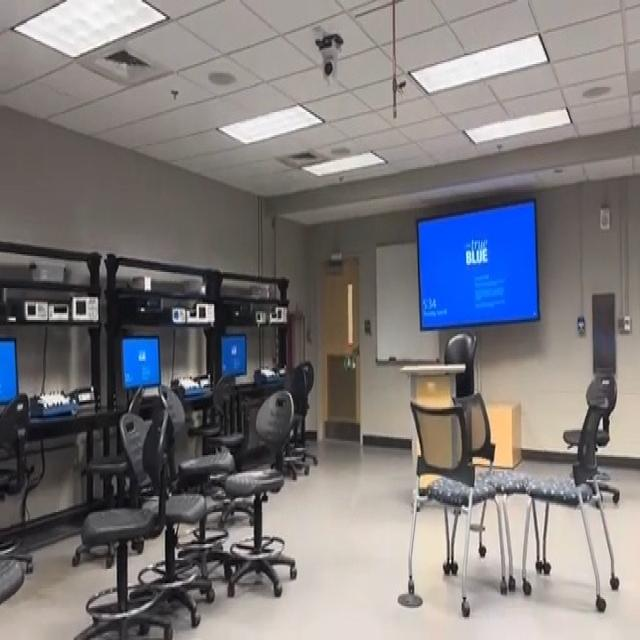drone: (338, 342, 367, 380)
